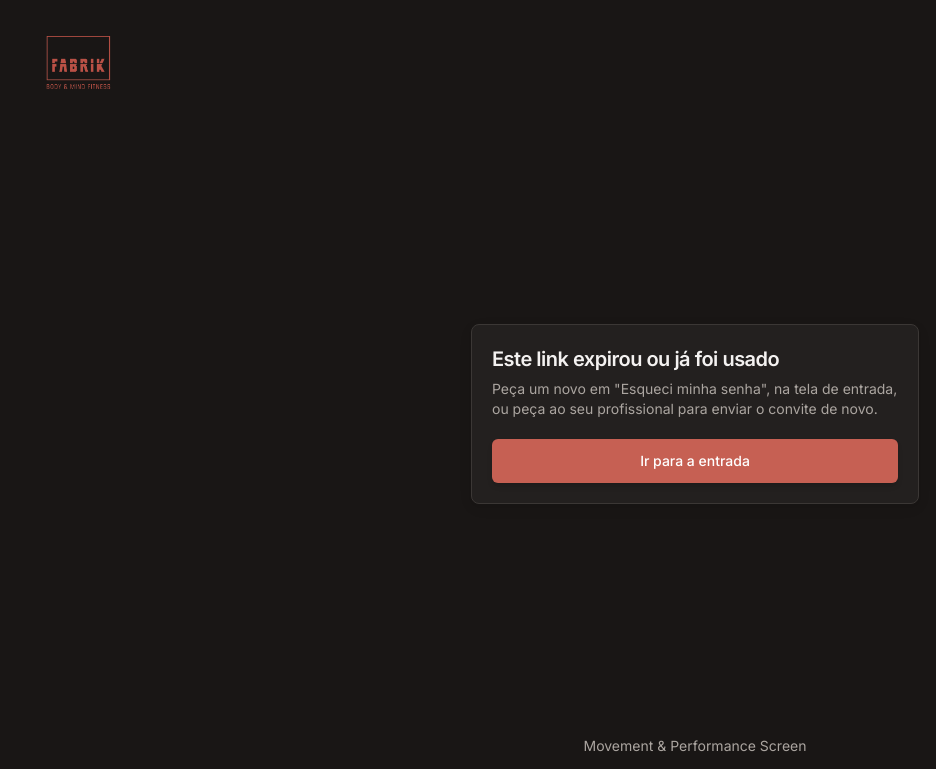
Scenario: SetPassword › link vencido: explica, aponta para a entrada e limpa o aviso
This screenshot has width=936, height=769.
expect the heading "Este link expirou ou já foi usado" is shown: met, box [492,347,779,371]
expect the text "Esqueci minha senha" is shown: met, box [492,380,897,417]
What coordinates should you click on to do the following:
click the link "Ir para a entrada"
I would click on:
 (695, 461)
Its box is [492,439,898,483].
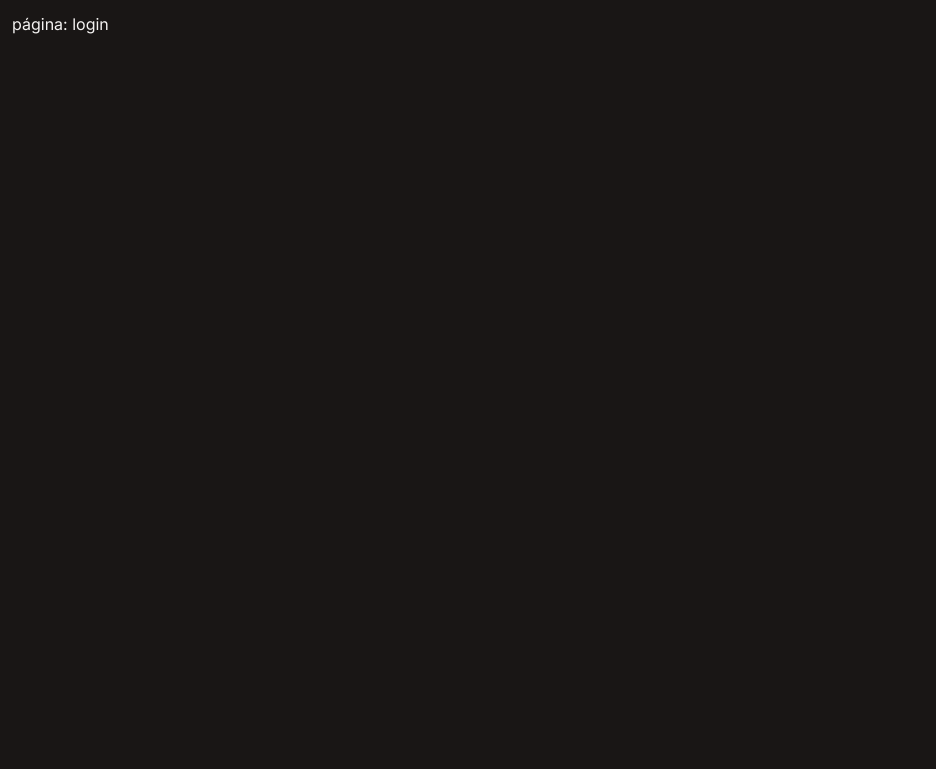
expect the text "página: login" is shown: met, box [12,14,109,34]
